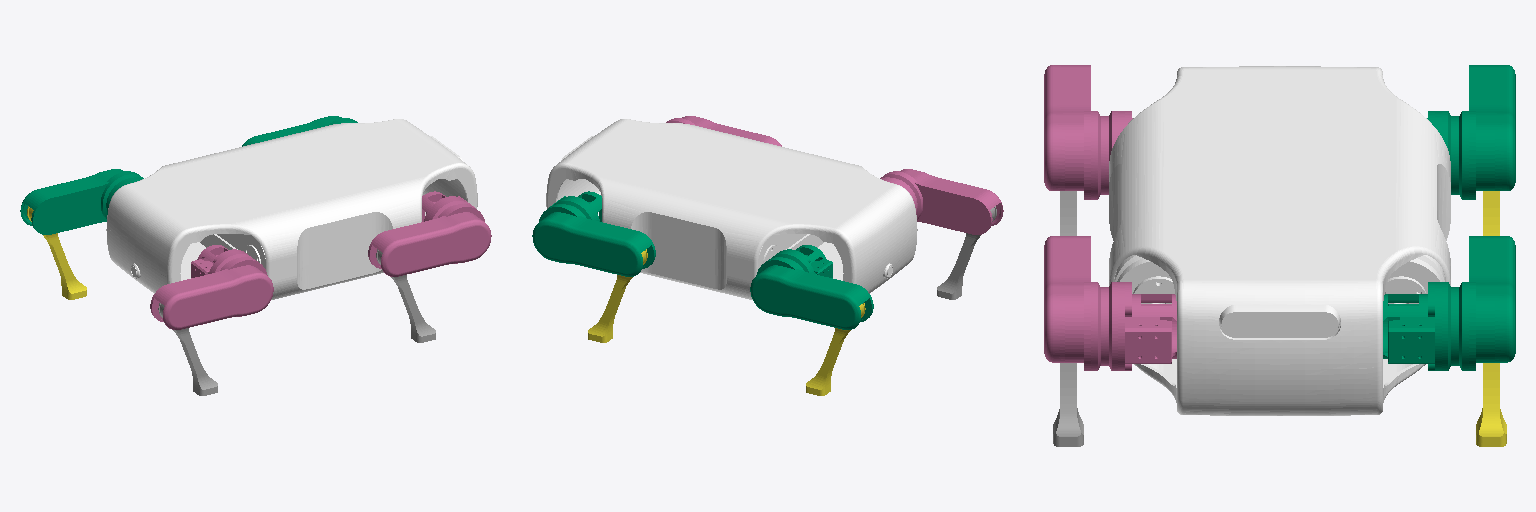
robot.urdf — seli:
<?xml version="1.0" ?>
<!-- =================================================================================== -->
<!-- |    This document was autogenerated by xacro from seli.urdf.xacro                | -->
<!-- |    EDITING THIS FILE BY HAND IS NOT RECOMMENDED                                 | -->
<!-- =================================================================================== -->
<robot name="seli">
  <!-- Color -->
  <material name="white">
    <color rgba="1.0 1.0 1.0 1.0"/>
  </material>
  <!-- body Link -->
  <link name="body_link">
    <visual>
      <origin rpy="0 0 0" xyz="0 0 0"/>
      <geometry>
        <mesh filename="package://seli_description/meshes/body.stl" scale="0.001 0.001 0.001"/>
      </geometry>
      <material name="white"/>
    </visual>
    <collision>
      <origin rpy="0 0 0" xyz="0 0 0"/>
      <geometry>
        <mesh filename="package://seli_description/meshes/body.stl" scale="0.001 0.001 0.001"/>
      </geometry>
    </collision>
  </link>
  <!-- Hip link -->
  <link name="lf_hip_link">
    <visual>
      <origin rpy="0 0 0" xyz="0 0 0"/>
      <geometry>
        <mesh filename="package://seli_description/meshes/hip.stl" scale="0.001 0.001 0.001"/>
      </geometry>
      <material name="white"/>
    </visual>
    <collision>
      <origin rpy="0 0 0" xyz="0 0 0"/>
      <geometry>
        <mesh filename="package://seli_description/meshes/hip.stl" scale="0.001 0.001 0.001"/>
      </geometry>
    </collision>
    <inertial>
      <mass value="0.3145"/>
      <inertia ixx="0.0" ixy="0.0" ixz="0.0" iyy="0.0" iyz="0.0" izz="0.0"/>
    </inertial>
  </link>
  <!-- Upper leg link -->
  <link name="lf_upper_leg_link">
    <visual>
      <origin rpy="0 0 0" xyz="0 0 0"/>
      <geometry>
        <mesh filename="package://seli_description/meshes/upper_leg_lf.stl" scale="0.001 0.001 0.001"/>
      </geometry>
      <material name="black"/>
    </visual>
    <collision>
      <origin rpy="0 0 0" xyz="0 0 0"/>
      <geometry>
        <mesh filename="package://seli_description/meshes/upper_leg_lf.stl" scale="0.001 0.001 0.001"/>
      </geometry>
    </collision>
    <inertial>
      <origin xyz="0 0 0"/>
      <mass value="0.3998"/>
      <inertia ixx="0.0" ixy="0.0" ixz="0.0" iyy="0.0" iyz="0.0" izz="0.0"/>
    </inertial>
  </link>
  <!-- Lower leg link -->
  <link name="lf_lower_leg_link">
    <visual>
      <origin rpy="0 0 0" xyz="0 0 0"/>
      <geometry>
        <mesh filename="package://seli_description/meshes/lower_leg.stl" scale="0.001 0.001 0.001"/>
      </geometry>
      <material name="black"/>
    </visual>
    <collision>
      <origin rpy="0 0 0" xyz="0 0 0"/>
      <geometry>
        <mesh filename="package://seli_description/meshes/lower_leg.stl" scale="0.001 0.001 0.001"/>
      </geometry>
    </collision>
    <inertial>
      <origin xyz="0 0 0"/>
      <mass value="0.0423"/>
      <inertia ixx="0.0" ixy="0.0" ixz="0.0" iyy="0.0" iyz="0.0" izz="0.0"/>
    </inertial>
  </link>
  <!-- Foot link -->
  <link name="lf_foot_link"/>
  <!-- Hip joint -->
  <joint name="lf_hip_joint" type="revolute">
    <origin rpy="0 0 0" xyz="0.105 0.088 0"/>
    <parent link="body_link"/>
    <child link="lf_hip_link"/>
    <axis xyz="1 0 0"/>
    <limit effort="0.0" lower="-3.141592653589793" upper="3.141592653589793" velocity="0.0"/>
  </joint>
  <!-- Upper leg joint -->
  <joint name="lf_upper_leg_joint" type="revolute">
    <origin rpy="0 0 0" xyz="0.042 -0.0204 0"/>
    <parent link="lf_hip_link"/>
    <child link="lf_upper_leg_link"/>
    <axis xyz="0 1 0"/>
    <limit effort="0.0" lower="-3.141592653589793" upper="3.141592653589793" velocity="0.0"/>
  </joint>
  <!-- Lower leg joint -->
  <joint name="lf_lower_leg_joint" type="revolute">
    <origin rpy="0 0 0" xyz="-0.1 0.0859 0"/>
    <parent link="lf_upper_leg_link"/>
    <child link="lf_lower_leg_link"/>
    <axis xyz="0 1 0"/>
    <limit effort="0.0" lower="-3.141592653589793" upper="3.141592653589793" velocity="0.0"/>
  </joint>
  <!-- Foot fixed joint -->
  <joint name="lf_foot_joint" type="fixed">
    <origin rpy="0 0 0" xyz="0 0 -0.12656"/>
    <parent link="lf_lower_leg_link"/>
    <child link="lf_foot_link"/>
  </joint>
  <!-- Hip link -->
  <link name="rf_hip_link">
    <visual>
      <origin rpy="3.141592653589793 0 0" xyz="0 0 0"/>
      <geometry>
        <mesh filename="package://seli_description/meshes/hip.stl" scale="0.001 0.001 0.001"/>
      </geometry>
      <material name="white"/>
    </visual>
    <collision>
      <origin rpy="0 0 0" xyz="0 0 0"/>
      <geometry>
        <mesh filename="package://seli_description/meshes/hip.stl" scale="0.001 0.001 0.001"/>
      </geometry>
    </collision>
    <inertial>
      <mass value="0.3145"/>
      <inertia ixx="0.0" ixy="0.0" ixz="0.0" iyy="0.0" iyz="0.0" izz="0.0"/>
    </inertial>
  </link>
  <!-- Upper leg link -->
  <link name="rf_upper_leg_link">
    <visual>
      <origin rpy="0 0 0" xyz="0 0 0"/>
      <geometry>
        <mesh filename="package://seli_description/meshes/upper_leg_rf.stl" scale="0.001 0.001 0.001"/>
      </geometry>
      <material name="black"/>
    </visual>
    <collision>
      <origin rpy="0 0 0" xyz="0 0 0"/>
      <geometry>
        <mesh filename="package://seli_description/meshes/upper_leg_rf.stl" scale="0.001 0.001 0.001"/>
      </geometry>
    </collision>
    <inertial>
      <origin xyz="0 0 0"/>
      <mass value="0.3998"/>
      <inertia ixx="0.0" ixy="0.0" ixz="0.0" iyy="0.0" iyz="0.0" izz="0.0"/>
    </inertial>
  </link>
  <!-- Lower leg link -->
  <link name="rf_lower_leg_link">
    <visual>
      <origin rpy="0 0 0" xyz="0 0 0"/>
      <geometry>
        <mesh filename="package://seli_description/meshes/lower_leg.stl" scale="0.001 0.001 0.001"/>
      </geometry>
      <material name="black"/>
    </visual>
    <collision>
      <origin rpy="0 0 0" xyz="0 0 0"/>
      <geometry>
        <mesh filename="package://seli_description/meshes/lower_leg.stl" scale="0.001 0.001 0.001"/>
      </geometry>
    </collision>
    <inertial>
      <origin xyz="0 0 0"/>
      <mass value="0.0423"/>
      <inertia ixx="0.0" ixy="0.0" ixz="0.0" iyy="0.0" iyz="0.0" izz="0.0"/>
    </inertial>
  </link>
  <!-- Foot link -->
  <link name="rf_foot_link"/>
  <!-- Hip joint -->
  <joint name="rf_hip_joint" type="revolute">
    <origin rpy="0 0 0" xyz="0.105 -0.088 0"/>
    <parent link="body_link"/>
    <child link="rf_hip_link"/>
    <axis xyz="1 0 0"/>
    <limit effort="0.0" lower="-3.141592653589793" upper="3.141592653589793" velocity="0.0"/>
  </joint>
  <!-- Upper leg joint -->
  <joint name="rf_upper_leg_joint" type="revolute">
    <origin rpy="0 0 0" xyz="0.042 0.0204 0"/>
    <parent link="rf_hip_link"/>
    <child link="rf_upper_leg_link"/>
    <axis xyz="0 1 0"/>
    <limit effort="0.0" lower="-3.141592653589793" upper="3.141592653589793" velocity="0.0"/>
  </joint>
  <!-- Lower leg joint -->
  <joint name="rf_lower_leg_joint" type="revolute">
    <origin rpy="0 0 0" xyz="-0.1 -0.0859 0"/>
    <parent link="rf_upper_leg_link"/>
    <child link="rf_lower_leg_link"/>
    <axis xyz="0 1 0"/>
    <limit effort="0.0" lower="-3.141592653589793" upper="3.141592653589793" velocity="0.0"/>
  </joint>
  <!-- Foot fixed joint -->
  <joint name="rf_foot_joint" type="fixed">
    <origin rpy="0 0 0" xyz="0 0 -0.12656"/>
    <parent link="rf_lower_leg_link"/>
    <child link="rf_foot_link"/>
  </joint>
  <!-- Hip link -->
  <link name="lh_hip_link">
    <visual>
      <origin rpy="0 3.141592653589793 0" xyz="0 0 0"/>
      <geometry>
        <mesh filename="package://seli_description/meshes/hip.stl" scale="0.001 0.001 0.001"/>
      </geometry>
      <material name="white"/>
    </visual>
    <collision>
      <origin rpy="0 0 0" xyz="0 0 0"/>
      <geometry>
        <mesh filename="package://seli_description/meshes/hip.stl" scale="0.001 0.001 0.001"/>
      </geometry>
    </collision>
    <inertial>
      <mass value="0.3145"/>
      <inertia ixx="0.0" ixy="0.0" ixz="0.0" iyy="0.0" iyz="0.0" izz="0.0"/>
    </inertial>
  </link>
  <!-- Upper leg link -->
  <link name="lh_upper_leg_link">
    <visual>
      <origin rpy="0 0 0" xyz="0 0 0"/>
      <geometry>
        <mesh filename="package://seli_description/meshes/upper_leg_lh.stl" scale="0.001 0.001 0.001"/>
      </geometry>
      <material name="black"/>
    </visual>
    <collision>
      <origin rpy="0 0 0" xyz="0 0 0"/>
      <geometry>
        <mesh filename="package://seli_description/meshes/upper_leg_lh.stl" scale="0.001 0.001 0.001"/>
      </geometry>
    </collision>
    <inertial>
      <origin xyz="0 0 0"/>
      <mass value="0.3998"/>
      <inertia ixx="0.0" ixy="0.0" ixz="0.0" iyy="0.0" iyz="0.0" izz="0.0"/>
    </inertial>
  </link>
  <!-- Lower leg link -->
  <link name="lh_lower_leg_link">
    <visual>
      <origin rpy="0 0 0" xyz="0 0 0"/>
      <geometry>
        <mesh filename="package://seli_description/meshes/lower_leg.stl" scale="0.001 0.001 0.001"/>
      </geometry>
      <material name="black"/>
    </visual>
    <collision>
      <origin rpy="0 0 0" xyz="0 0 0"/>
      <geometry>
        <mesh filename="package://seli_description/meshes/lower_leg.stl" scale="0.001 0.001 0.001"/>
      </geometry>
    </collision>
    <inertial>
      <origin xyz="0 0 0"/>
      <mass value="0.0423"/>
      <inertia ixx="0.0" ixy="0.0" ixz="0.0" iyy="0.0" iyz="0.0" izz="0.0"/>
    </inertial>
  </link>
  <!-- Foot link -->
  <link name="lh_foot_link"/>
  <!-- Hip joint -->
  <joint name="lh_hip_joint" type="revolute">
    <origin rpy="0 0 0" xyz="-0.105 0.088 0"/>
    <parent link="body_link"/>
    <child link="lh_hip_link"/>
    <axis xyz="1 0 0"/>
    <limit effort="0.0" lower="-3.141592653589793" upper="3.141592653589793" velocity="0.0"/>
  </joint>
  <!-- Upper leg joint -->
  <joint name="lh_upper_leg_joint" type="revolute">
    <origin rpy="0 0 0" xyz="-0.042 -0.0204 0"/>
    <parent link="lh_hip_link"/>
    <child link="lh_upper_leg_link"/>
    <axis xyz="0 1 0"/>
    <limit effort="0.0" lower="-3.141592653589793" upper="3.141592653589793" velocity="0.0"/>
  </joint>
  <!-- Lower leg joint -->
  <joint name="lh_lower_leg_joint" type="revolute">
    <origin rpy="0 0 0" xyz="-0.1 0.0859 0"/>
    <parent link="lh_upper_leg_link"/>
    <child link="lh_lower_leg_link"/>
    <axis xyz="0 1 0"/>
    <limit effort="0.0" lower="-3.141592653589793" upper="3.141592653589793" velocity="0.0"/>
  </joint>
  <!-- Foot fixed joint -->
  <joint name="lh_foot_joint" type="fixed">
    <origin rpy="0 0 0" xyz="0 0 -0.12656"/>
    <parent link="lh_lower_leg_link"/>
    <child link="lh_foot_link"/>
  </joint>
  <!-- Hip link -->
  <link name="rh_hip_link">
    <visual>
      <origin rpy="0 0 3.141592653589793" xyz="0 0 0"/>
      <geometry>
        <mesh filename="package://seli_description/meshes/hip.stl" scale="0.001 0.001 0.001"/>
      </geometry>
      <material name="white"/>
    </visual>
    <collision>
      <origin rpy="0 0 0" xyz="0 0 0"/>
      <geometry>
        <mesh filename="package://seli_description/meshes/hip.stl" scale="0.001 0.001 0.001"/>
      </geometry>
    </collision>
    <inertial>
      <mass value="0.3145"/>
      <inertia ixx="0.0" ixy="0.0" ixz="0.0" iyy="0.0" iyz="0.0" izz="0.0"/>
    </inertial>
  </link>
  <!-- Upper leg link -->
  <link name="rh_upper_leg_link">
    <visual>
      <origin rpy="0 0 0" xyz="0 0 0"/>
      <geometry>
        <mesh filename="package://seli_description/meshes/upper_leg_rh.stl" scale="0.001 0.001 0.001"/>
      </geometry>
      <material name="black"/>
    </visual>
    <collision>
      <origin rpy="0 0 0" xyz="0 0 0"/>
      <geometry>
        <mesh filename="package://seli_description/meshes/upper_leg_rh.stl" scale="0.001 0.001 0.001"/>
      </geometry>
    </collision>
    <inertial>
      <origin xyz="0 0 0"/>
      <mass value="0.3998"/>
      <inertia ixx="0.0" ixy="0.0" ixz="0.0" iyy="0.0" iyz="0.0" izz="0.0"/>
    </inertial>
  </link>
  <!-- Lower leg link -->
  <link name="rh_lower_leg_link">
    <visual>
      <origin rpy="0 0 0" xyz="0 0 0"/>
      <geometry>
        <mesh filename="package://seli_description/meshes/lower_leg.stl" scale="0.001 0.001 0.001"/>
      </geometry>
      <material name="black"/>
    </visual>
    <collision>
      <origin rpy="0 0 0" xyz="0 0 0"/>
      <geometry>
        <mesh filename="package://seli_description/meshes/lower_leg.stl" scale="0.001 0.001 0.001"/>
      </geometry>
    </collision>
    <inertial>
      <origin xyz="0 0 0"/>
      <mass value="0.0423"/>
      <inertia ixx="0.0" ixy="0.0" ixz="0.0" iyy="0.0" iyz="0.0" izz="0.0"/>
    </inertial>
  </link>
  <!-- Foot link -->
  <link name="rh_foot_link"/>
  <!-- Hip joint -->
  <joint name="rh_hip_joint" type="revolute">
    <origin rpy="0 0 0" xyz="-0.105 -0.088 0"/>
    <parent link="body_link"/>
    <child link="rh_hip_link"/>
    <axis xyz="1 0 0"/>
    <limit effort="0.0" lower="-3.141592653589793" upper="3.141592653589793" velocity="0.0"/>
  </joint>
  <!-- Upper leg joint -->
  <joint name="rh_upper_leg_joint" type="revolute">
    <origin rpy="0 0 0" xyz="-0.042 0.0204 0"/>
    <parent link="rh_hip_link"/>
    <child link="rh_upper_leg_link"/>
    <axis xyz="0 1 0"/>
    <limit effort="0.0" lower="-3.141592653589793" upper="3.141592653589793" velocity="0.0"/>
  </joint>
  <!-- Lower leg joint -->
  <joint name="rh_lower_leg_joint" type="revolute">
    <origin rpy="0 0 0" xyz="-0.1 -0.0859 0"/>
    <parent link="rh_upper_leg_link"/>
    <child link="rh_lower_leg_link"/>
    <axis xyz="0 1 0"/>
    <limit effort="0.0" lower="-3.141592653589793" upper="3.141592653589793" velocity="0.0"/>
  </joint>
  <!-- Foot fixed joint -->
  <joint name="rh_foot_joint" type="fixed">
    <origin rpy="0 0 0" xyz="0 0 -0.12656"/>
    <parent link="rh_lower_leg_link"/>
    <child link="rh_foot_link"/>
  </joint>
</robot>

--- Render facts (derived) ---
The picture shows the robot from 3 angles, left to right: view 1: azimuth 30°, elevation 25°; view 2: azimuth 150°, elevation 25°; view 3: azimuth 270°, elevation 25°; orthographic projection.
Model seli with 17 links and 16 joints (12 revolute, 4 fixed), rooted at body_link, posed every joint at zero.
Visible links, largest first — view 1: body_link, rh_upper_leg_link, rf_upper_leg_link, lh_upper_leg_link, rf_lower_leg_link, rh_lower_leg_link, lh_lower_leg_link, lf_upper_leg_link; view 2: body_link, lh_upper_leg_link, lf_upper_leg_link, rh_upper_leg_link, lf_lower_leg_link, lh_lower_leg_link, rh_lower_leg_link, rf_upper_leg_link; view 3: body_link, lf_upper_leg_link, rf_upper_leg_link, rh_upper_leg_link, lh_upper_leg_link, lf_lower_leg_link, rf_lower_leg_link, lh_lower_leg_link, rh_lower_leg_link.
Boxes of the visible links, box(x1,y1,x2,y2) form: body_link: box(106, 119, 477, 299); rh_upper_leg_link: box(150, 245, 273, 329); rf_upper_leg_link: box(368, 191, 491, 276); lh_upper_leg_link: box(20, 169, 143, 234); rf_lower_leg_link: box(376, 249, 435, 342); rh_lower_leg_link: box(158, 303, 217, 395); lh_lower_leg_link: box(27, 206, 86, 299); lf_upper_leg_link: box(242, 116, 357, 146); body_link: box(546, 119, 917, 299); lh_upper_leg_link: box(750, 245, 873, 329); lf_upper_leg_link: box(532, 191, 655, 276); rh_upper_leg_link: box(880, 169, 1003, 234); lf_lower_leg_link: box(588, 249, 647, 342); lh_lower_leg_link: box(806, 303, 865, 395); rh_lower_leg_link: box(937, 206, 996, 299); rf_upper_leg_link: box(666, 116, 781, 146); body_link: box(1109, 66, 1450, 415); lf_upper_leg_link: box(1383, 236, 1515, 370); rf_upper_leg_link: box(1044, 236, 1176, 370); rh_upper_leg_link: box(1044, 65, 1132, 199); lh_upper_leg_link: box(1427, 65, 1515, 199); lf_lower_leg_link: box(1476, 363, 1506, 446); rf_lower_leg_link: box(1053, 363, 1083, 446); lh_lower_leg_link: box(1483, 191, 1499, 235); rh_lower_leg_link: box(1060, 191, 1076, 235).
Bounding box of the posed robot: 0.4825 × 0.342 × 0.1725 m (x, y, z).
9 mesh visuals loaded from 7 distinct referenced files (6 binary STL); not drawn: 4 (reference not matched to a file when rendering).
